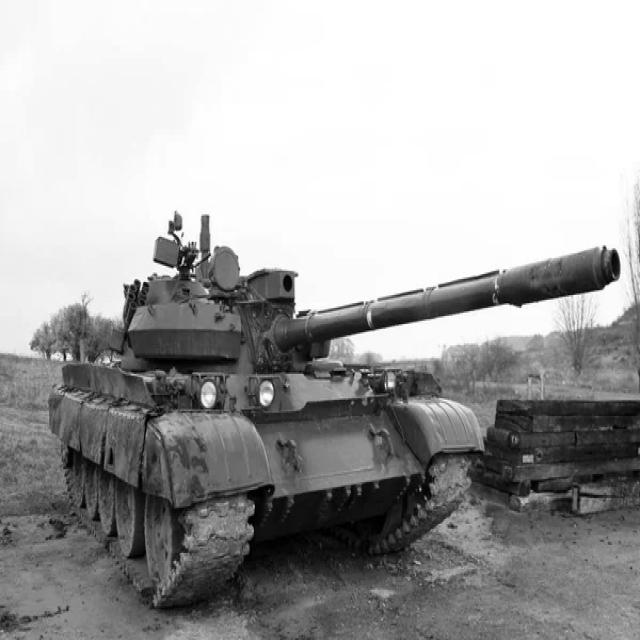Tank: (43, 196, 626, 605)
